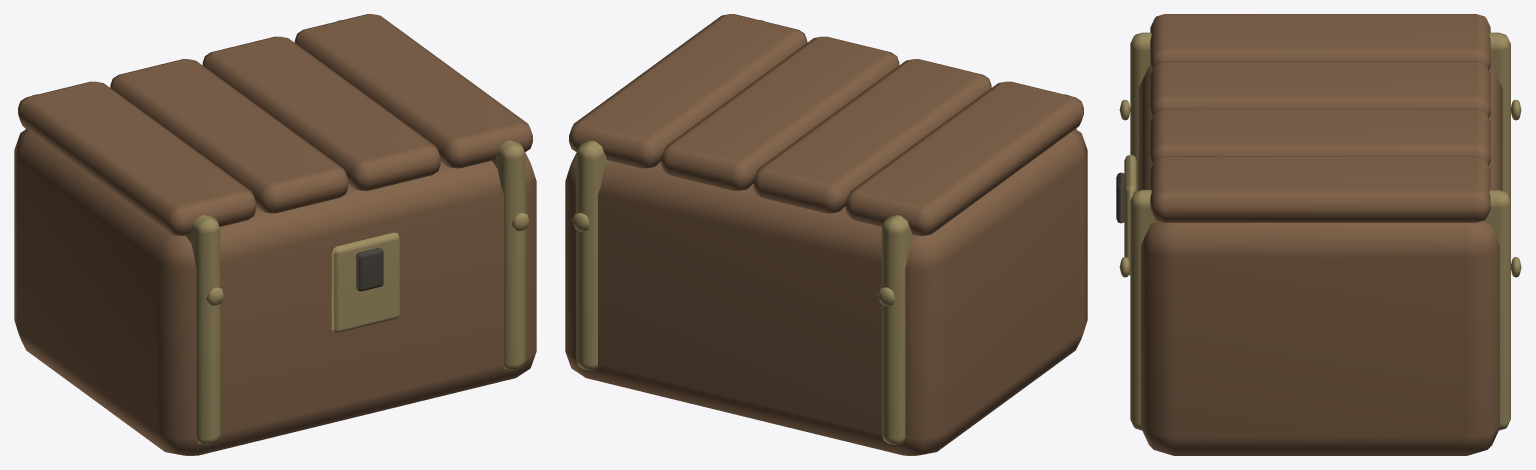
Rendered from clockwork_courier_crate_atelier.glb.
The picture shows the model from 3 angles, left to right: view 1: azimuth 30°, elevation 25°; view 2: azimuth 150°, elevation 25°; view 3: azimuth 270°, elevation 25°; orthographic projection. The views are drawn at different scales.
Visible parts, largest first — view 1: clockwork_courier_crate_atelier__TaggedPainted_clockwork_cou; view 2: clockwork_courier_crate_atelier__TaggedPainted_clockwork_cou; view 3: clockwork_courier_crate_atelier__TaggedPainted_clockwork_cou.
Boxes of the visible parts, bbox=[...] form: clockwork_courier_crate_atelier__TaggedPainted_clockwork_cou: bbox=[14, 14, 536, 455]; clockwork_courier_crate_atelier__TaggedPainted_clockwork_cou: bbox=[565, 14, 1087, 455]; clockwork_courier_crate_atelier__TaggedPainted_clockwork_cou: bbox=[1116, 14, 1521, 455].
Bounding box in the file's own units: 0.58 × 0.4055 × 0.512.
